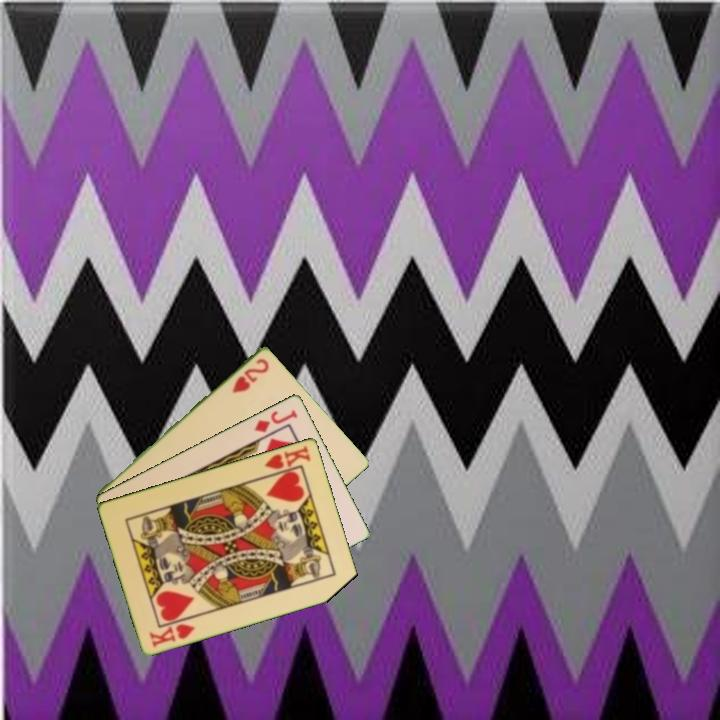2h: (228, 354, 272, 396)
Jd: (251, 405, 300, 435)
Kh: (261, 441, 314, 479), (146, 620, 198, 649)
